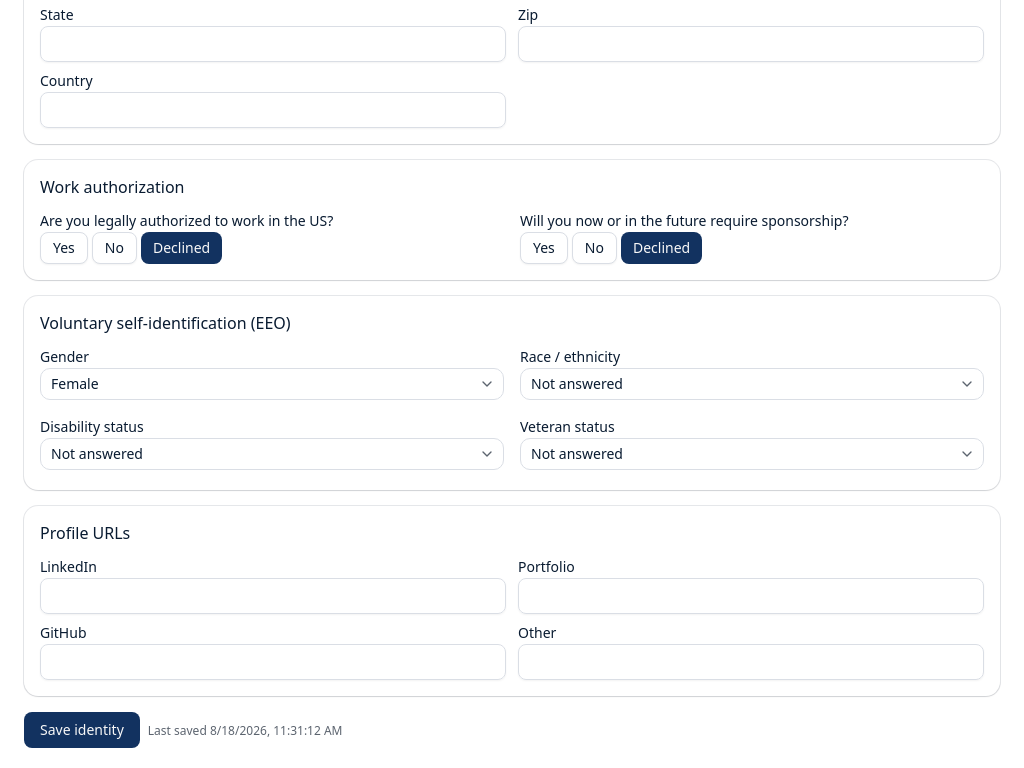
it: Settings - Identity tab EEO fields › lets a previously-answered EEO field be cleared back to Not answered
(page scrolled)
Step 1. Click the dropdown labelled "Female ▼" → (75, 384), box [40,368,504,400]
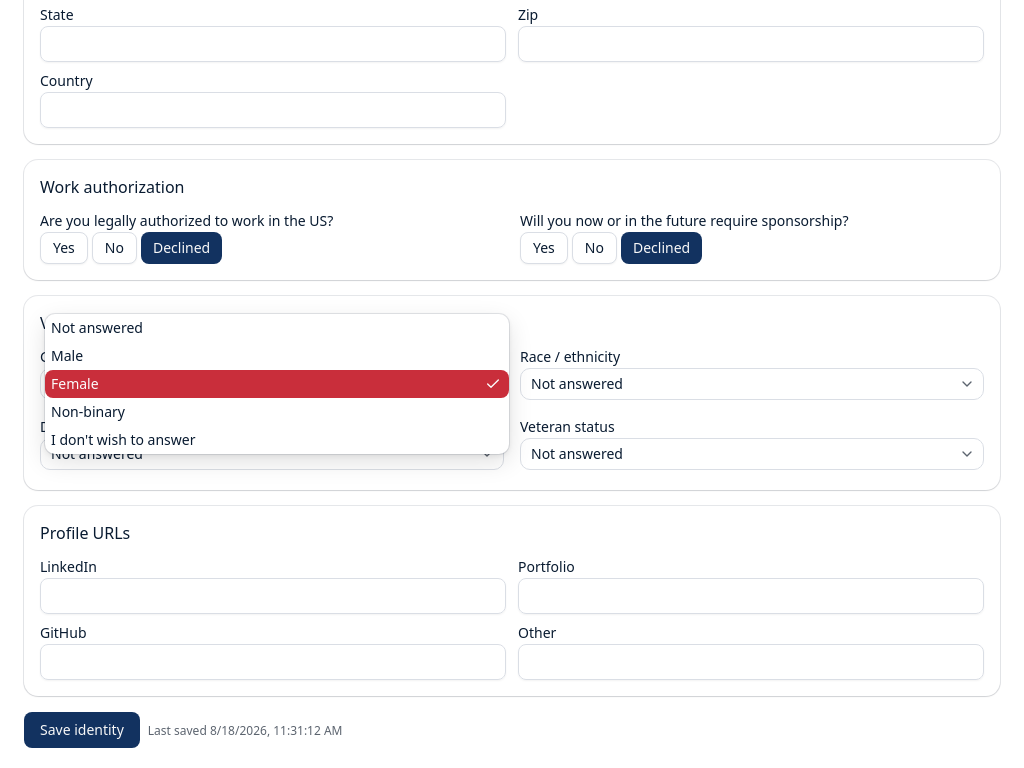
Step 2. Click the option "Not answered" → (97, 328), box [51,318,143,337]
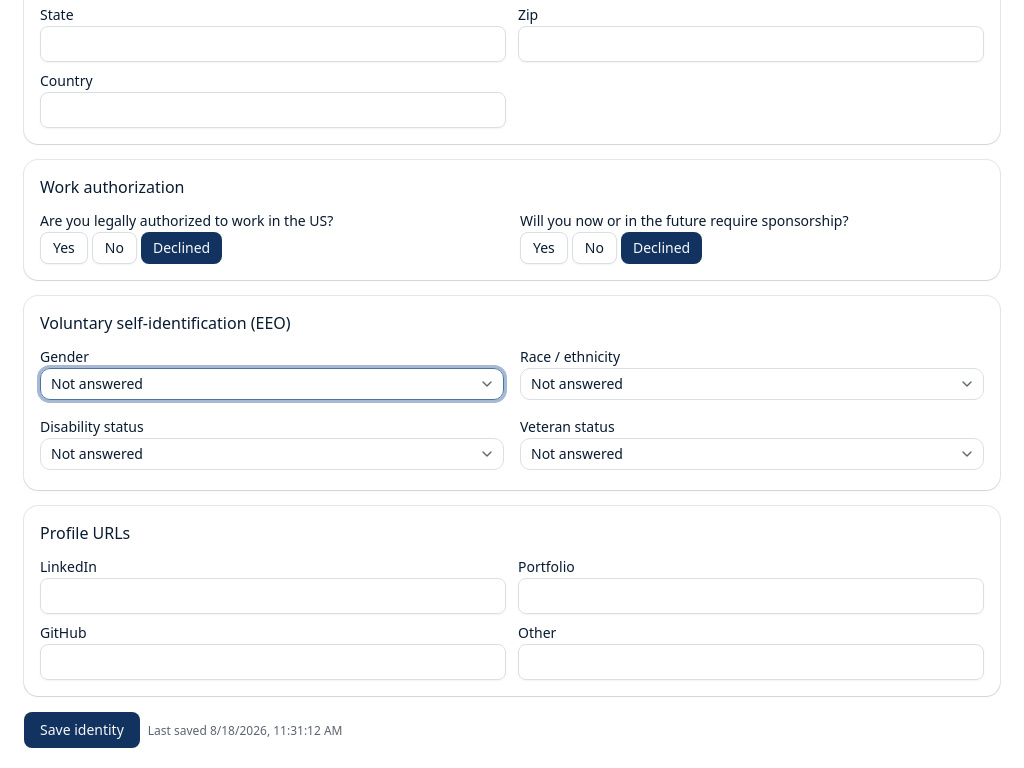
Check: the dropdown labelled "Not answered ▼" below "Gender" is shown, box [40,368,504,400]
